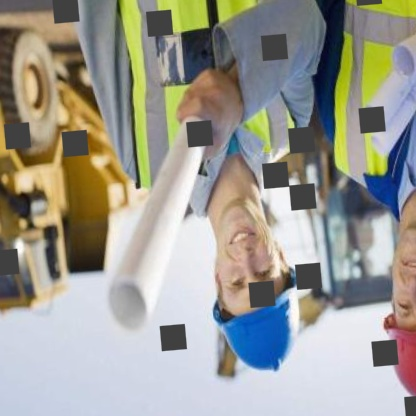blue: (204, 269, 321, 387)
red: (375, 294, 416, 414)
vest: (100, 0, 317, 204), (308, 0, 416, 224)
